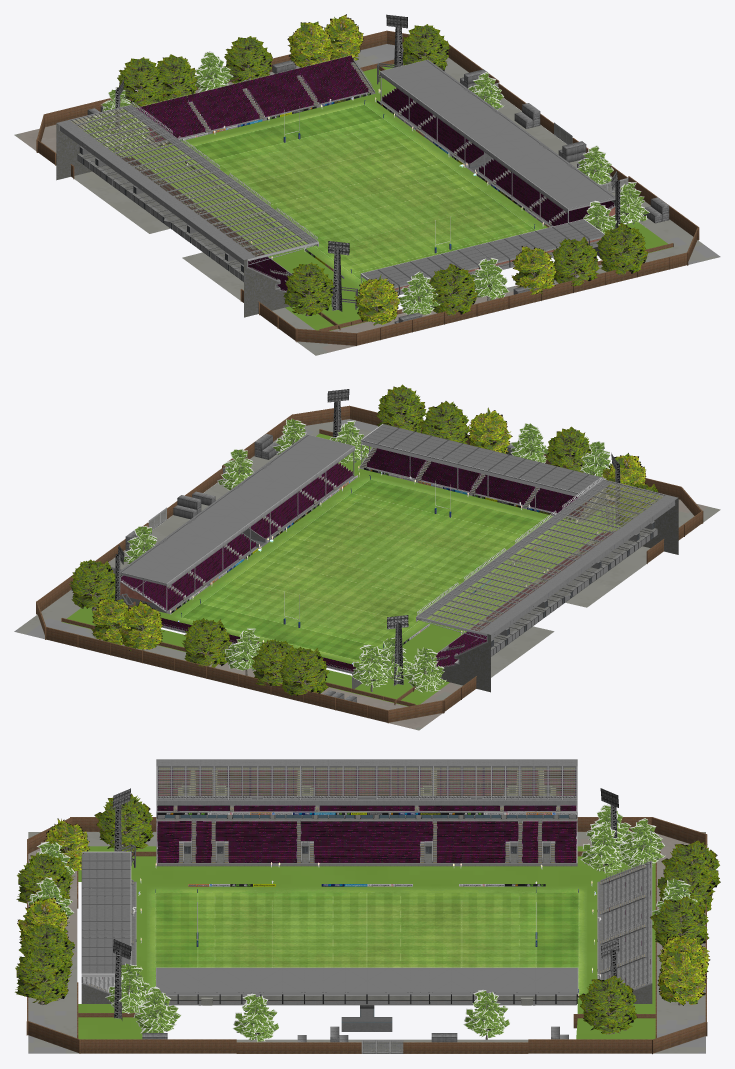
The model's file is stade-club-3.glb.
3 views of the same model, one above another, from view 1: azimuth 30°, elevation 25°; view 2: azimuth 150°, elevation 25°; view 3: azimuth 270°, elevation 25° (orthographic). The views are drawn at different scales.
Parts seen in each view (by area): view 1: PITCH 1, SIDE_STAND_02_2TIER_TWICKENHAM_MAIN, SIDE_STAND_02_1TIER_MURRAY_MAIN_ENTRANCE_COLOUR_MAIN, Outer_Surround, StadiumCrowdSectionSouth-FlatCrowdMeshes, SIDE_STAND_02_2TIER_TWICKENHAM_GLASS_ROOF, STAND_02_END_MILLENNIUM_MAIN, StadiumCrowdSectionWest-FlatCrowdMeshes, Oak2-With-Wind-And-AO (1) (×2), Oak2-With-Wind-And-AO (×2), Inner_Surround_Side_A, Oak2-With-Wind-And-AO (2) (×2) (+18 smaller); view 2: PITCH 1, SIDE_STAND_02_2TIER_TWICKENHAM_MAIN, SIDE_STAND_02_1TIER_MURRAY_MAIN_ENTRANCE_COLOUR_MAIN, Outer_Surround, SIDE_STAND_02_2TIER_TWICKENHAM_GLASS_ROOF, STAND_02_END_MILLENNIUM_MAIN, StadiumCrowdSectionWest-FlatCrowdMeshes, StadiumCrowdSectionNorth-FlatCrowdMeshes, Inner_Surround_Side_A, Oak2-With-Wind-And-AO (1) (×2), Oak2-With-Wind-And-AO (×2), Oak1-With-Wind-And-AO (1) (×2) (+21 smaller); view 3: PITCH 1, StadiumCrowdSectionEast-FlatCrowdMeshes, SIDE_STAND_02_2TIER_TWICKENHAM_MAIN, SIDE_STAND_02_1TIER_MURRAY_MAIN_ENTRANCE_COLOUR_MAIN, Inner_Surround_Side_A, Outer_Surround, SIDE_STAND_02_2TIER_TWICKENHAM_GLASS_ROOF, STAND_02_END_MILLENNIUM_MAIN, Inner_Surround, STAND_01_END_MILLENNIUM_COLOUR_SEATS, Oak2-With-Wind-And-AO (1) (×2), SIDE_STAND_02_1TIER_MURRAY_MAIN_ENTRANCE (+41 smaller).
Part boxes in pixels (bbox=[...]): PITCH 1: bbox=[166, 99, 547, 289]; SIDE_STAND_02_2TIER_TWICKENHAM_MAIN: bbox=[56, 101, 318, 317]; SIDE_STAND_02_1TIER_MURRAY_MAIN_ENTRANCE_COLOUR_MAIN: bbox=[380, 59, 615, 222]; Outer_Surround: bbox=[14, 44, 720, 355]; StadiumCrowdSectionSouth-FlatCrowdMeshes: bbox=[136, 55, 368, 141]; SIDE_STAND_02_2TIER_TWICKENHAM_GLASS_ROOF: bbox=[71, 108, 307, 256]; STAND_02_END_MILLENNIUM_MAIN: bbox=[360, 219, 604, 294]; StadiumCrowdSectionWest-FlatCrowdMeshes: bbox=[382, 88, 613, 225]; Oak2-With-Wind-And-AO (1) (×2): bbox=[222, 36, 648, 275]; Oak2-With-Wind-And-AO (×2): bbox=[116, 57, 477, 316]; Inner_Surround_Side_A: bbox=[138, 152, 356, 293]; Oak2-With-Wind-And-AO (2) (×2): bbox=[155, 54, 599, 286]; PITCH 1: bbox=[166, 474, 567, 664]; SIDE_STAND_02_2TIER_TWICKENHAM_MAIN: bbox=[416, 476, 678, 692]; SIDE_STAND_02_1TIER_MURRAY_MAIN_ENTRANCE_COLOUR_MAIN: bbox=[120, 434, 354, 613]; Outer_Surround: bbox=[14, 419, 720, 730]; SIDE_STAND_02_2TIER_TWICKENHAM_GLASS_ROOF: bbox=[427, 483, 664, 630]; STAND_02_END_MILLENNIUM_MAIN: bbox=[359, 424, 606, 522]; StadiumCrowdSectionWest-FlatCrowdMeshes: bbox=[121, 463, 352, 610]; StadiumCrowdSectionNorth-FlatCrowdMeshes: bbox=[367, 448, 592, 516]; Inner_Surround_Side_A: bbox=[402, 527, 596, 667]; Oak2-With-Wind-And-AO (1) (×2): bbox=[182, 384, 426, 667]; Oak2-With-Wind-And-AO (×2): bbox=[279, 426, 591, 696]; Oak1-With-Wind-And-AO (1) (×2): bbox=[119, 407, 512, 651]; PITCH 1: bbox=[146, 886, 587, 999]; StadiumCrowdSectionEast-FlatCrowdMeshes: bbox=[157, 770, 576, 863]; SIDE_STAND_02_2TIER_TWICKENHAM_MAIN: bbox=[156, 759, 577, 866]; SIDE_STAND_02_1TIER_MURRAY_MAIN_ENTRANCE_COLOUR_MAIN: bbox=[156, 968, 577, 1022]; Inner_Surround_Side_A: bbox=[156, 866, 577, 886]; Outer_Surround: bbox=[28, 832, 705, 1053]; SIDE_STAND_02_2TIER_TWICKENHAM_GLASS_ROOF: bbox=[158, 768, 575, 795]; STAND_02_END_MILLENNIUM_MAIN: bbox=[81, 851, 136, 1003]; Inner_Surround: bbox=[78, 846, 655, 1039]; STAND_01_END_MILLENNIUM_COLOUR_SEATS: bbox=[603, 864, 651, 988]; Oak2-With-Wind-And-AO (1) (×2): bbox=[15, 895, 708, 1004]; SIDE_STAND_02_1TIER_MURRAY_MAIN_ENTRANCE: bbox=[156, 967, 578, 1031].
Size of the model in its own units: 161 by 27.83 by 209.
16 materials, 16 textured.
